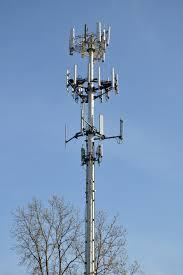antenna: (93, 21, 102, 49), (117, 118, 126, 139), (87, 63, 94, 88), (69, 27, 76, 52), (72, 64, 78, 84), (99, 113, 104, 135), (97, 65, 101, 91), (111, 68, 115, 88)
